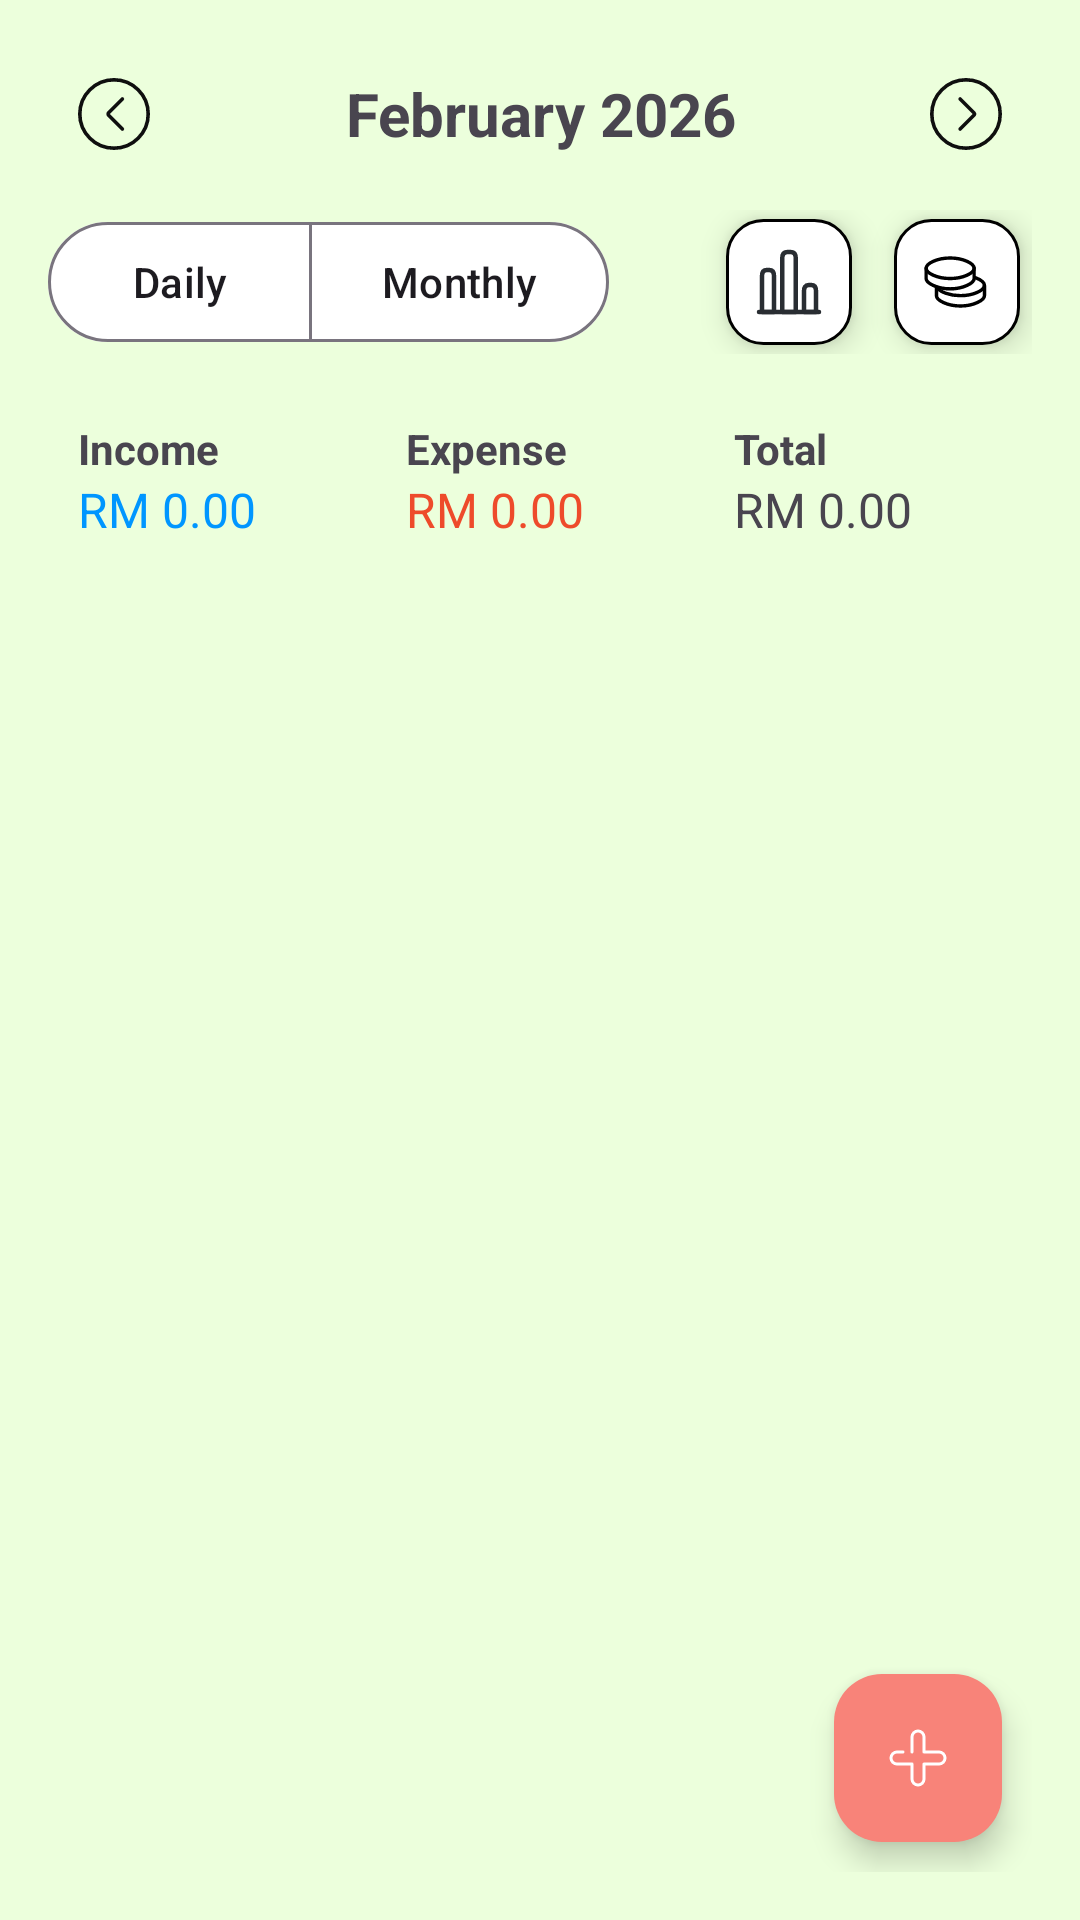

Icon bounding boxes for this 1080w x 1920h phone screenshot, format (left=x1, top=y1, right=x2, bottom=y2):
Account Balances: (left=894, top=219, right=1020, bottom=345)
Add Expense: (left=834, top=1674, right=1002, bottom=1842)
Next month: (left=930, top=78, right=1002, bottom=150)
Previous month: (left=78, top=78, right=150, bottom=150)
Statistics: (left=726, top=219, right=852, bottom=345)
